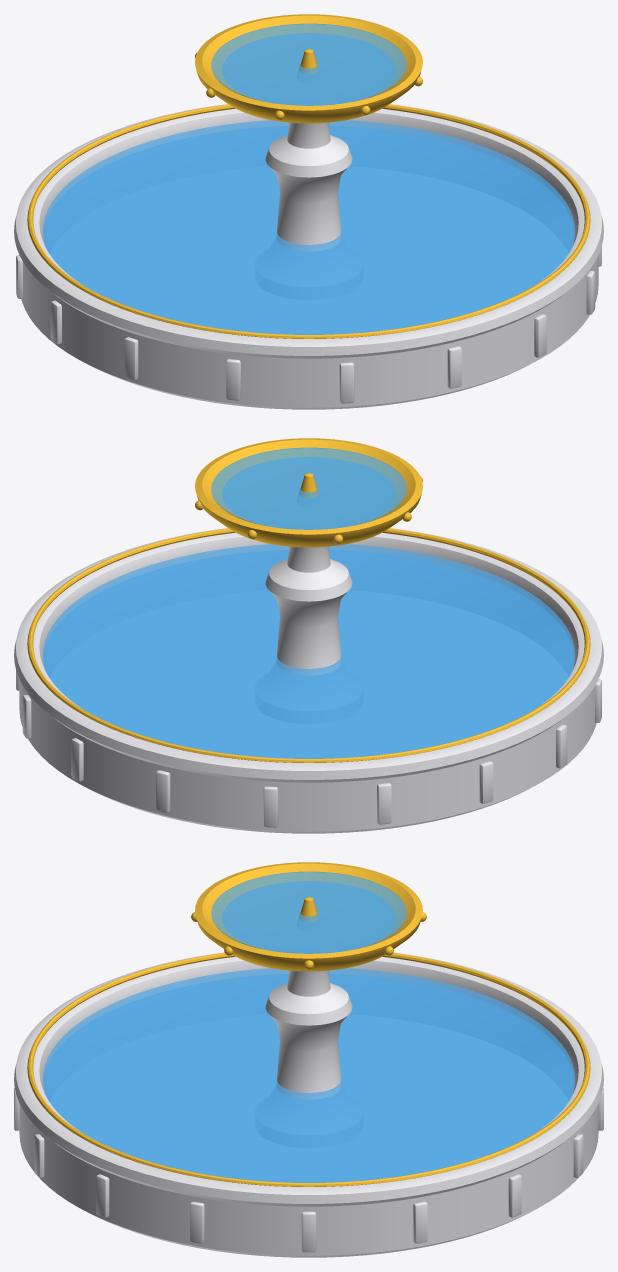
File: PropFountain.fbx
3 renders of one model, top to bottom at view 1: azimuth 30°, elevation 25°; view 2: azimuth 150°, elevation 25°; view 3: azimuth 270°, elevation 25°, orthographic.
Visible parts, largest first — view 1: Water, Marble, Gold; view 2: Water, Marble, Gold; view 3: Water, Marble, Gold.
Boxes of the visible parts, x1,y1,x2,y2 form: Water: (43, 23, 574, 334); Marble: (14, 104, 603, 409); Gold: (27, 14, 590, 338); Water: (43, 447, 574, 758); Marble: (14, 528, 603, 833); Gold: (27, 438, 590, 762); Water: (43, 871, 574, 1182); Marble: (14, 952, 603, 1257); Gold: (27, 862, 590, 1186).
Size of the model in its own units: 1630 by 735 by 1630.
